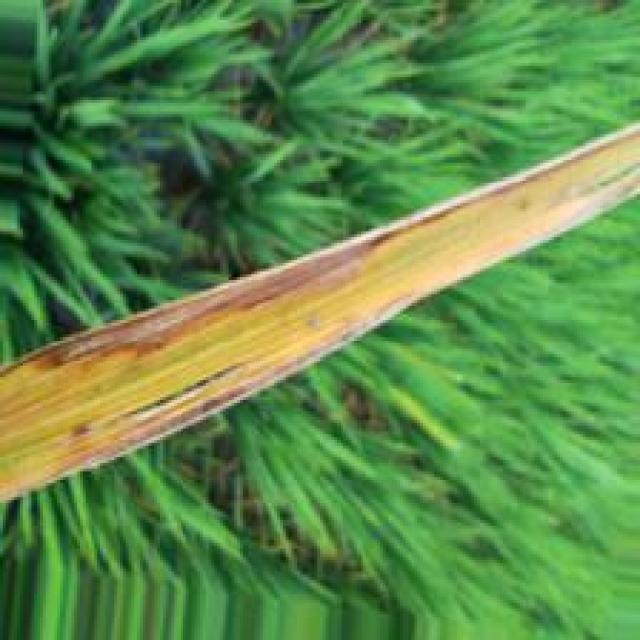Bacterial_Leaf_Blight: (0, 118, 640, 506)
